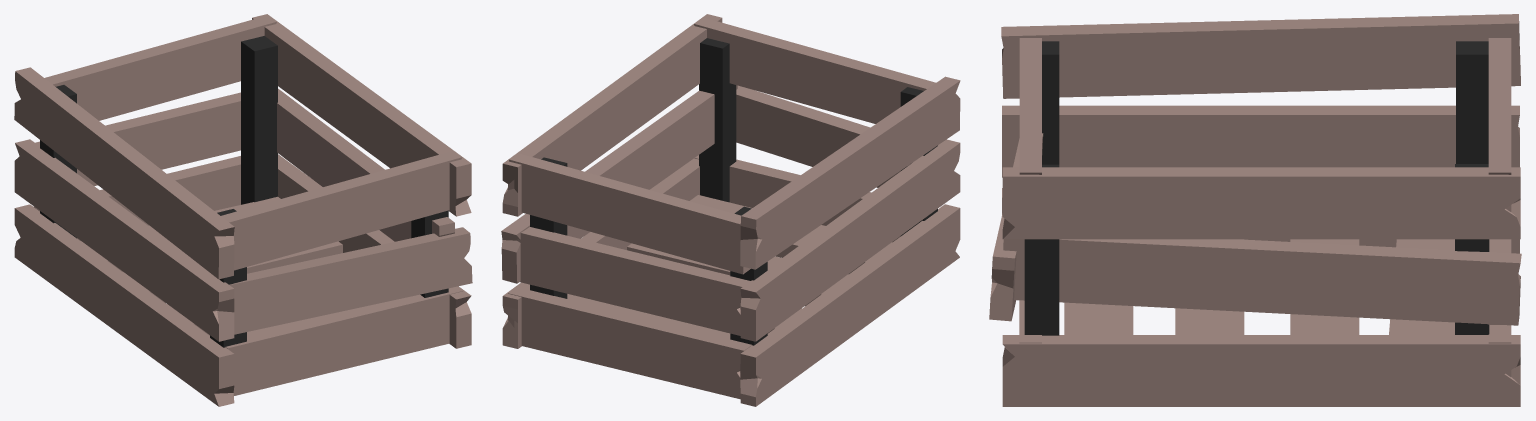
Rendered from Appellada.fbx.
The picture shows the model from 3 angles, left to right: view 1: azimuth 30°, elevation 25°; view 2: azimuth 150°, elevation 25°; view 3: azimuth 270°, elevation 25°; orthographic projection. The views are drawn at different scales.
Parts seen in each view (by area): view 1: polySurface20; view 2: polySurface20; view 3: polySurface20.
Boxes of the visible parts, box(x1,y1,x2,y2) form: polySurface20: box(14, 14, 472, 406); polySurface20: box(501, 14, 960, 406); polySurface20: box(989, 14, 1521, 406).
Bounding box in the file's own units: 1.08 × 0.7567 × 1.54.
